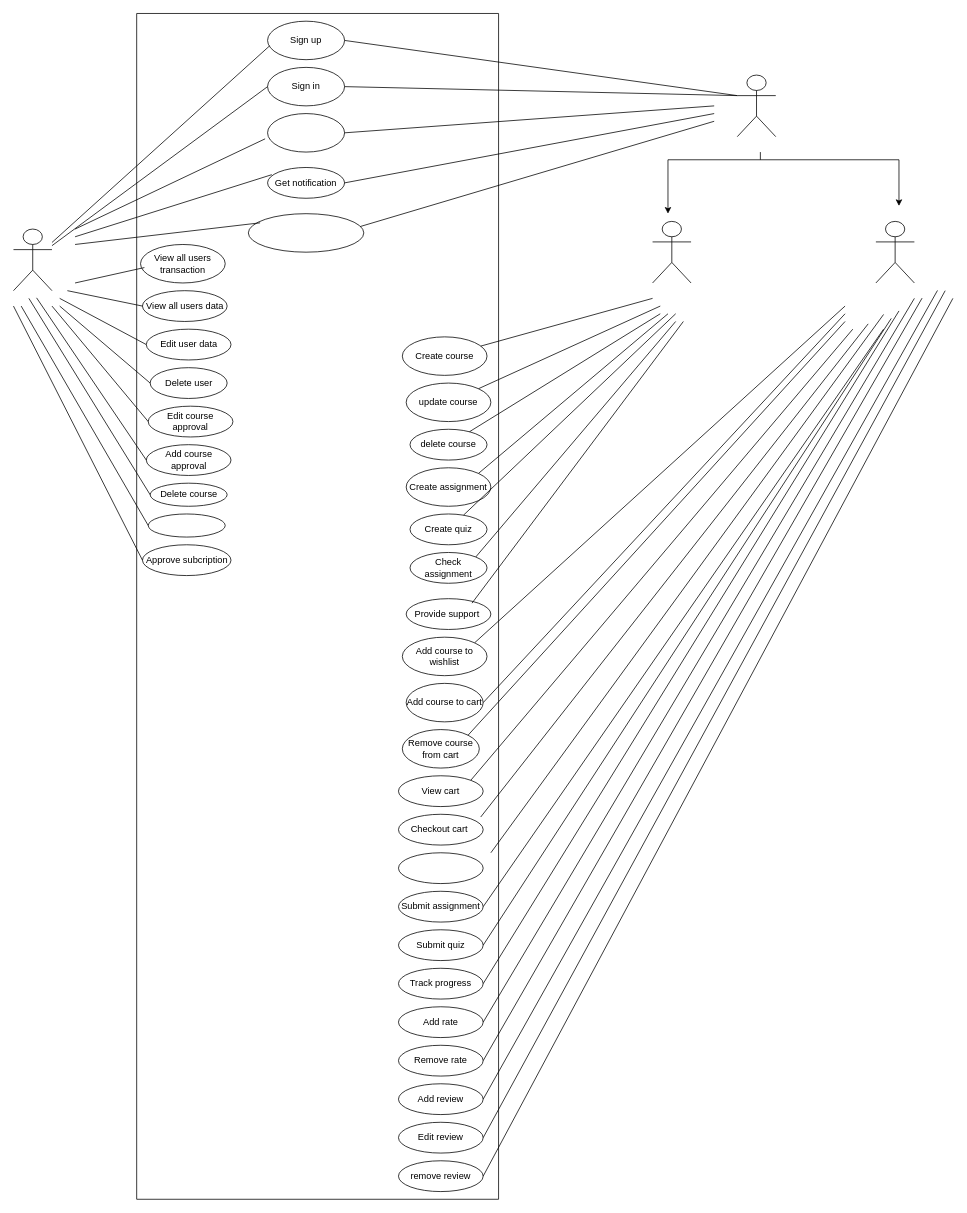
The diagram is 967 pixels wide and 1213 high, and some of its shapes have lost their labels. The shapes that lost their labels are listed below. From the top down, each one's box as (x1, y1, x2, y2) in pixels, then its label:
(737, 74, 776, 137): User
(267, 113, 345, 152): Sign out
(248, 213, 364, 252): View all courses(Filter, sort,pagination,search)
(652, 221, 691, 283): Instructor
(875, 221, 914, 283): Learner
(13, 228, 52, 291): Admin
(147, 513, 225, 537): View analytics
(398, 852, 483, 884): View content after subcription
